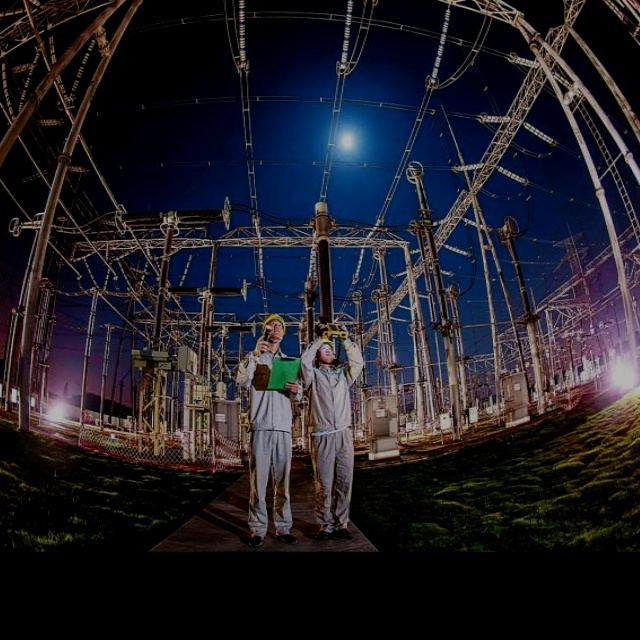Con_Casco: (264, 310, 286, 348)
Sin_Chaleco: (313, 365, 353, 433)
